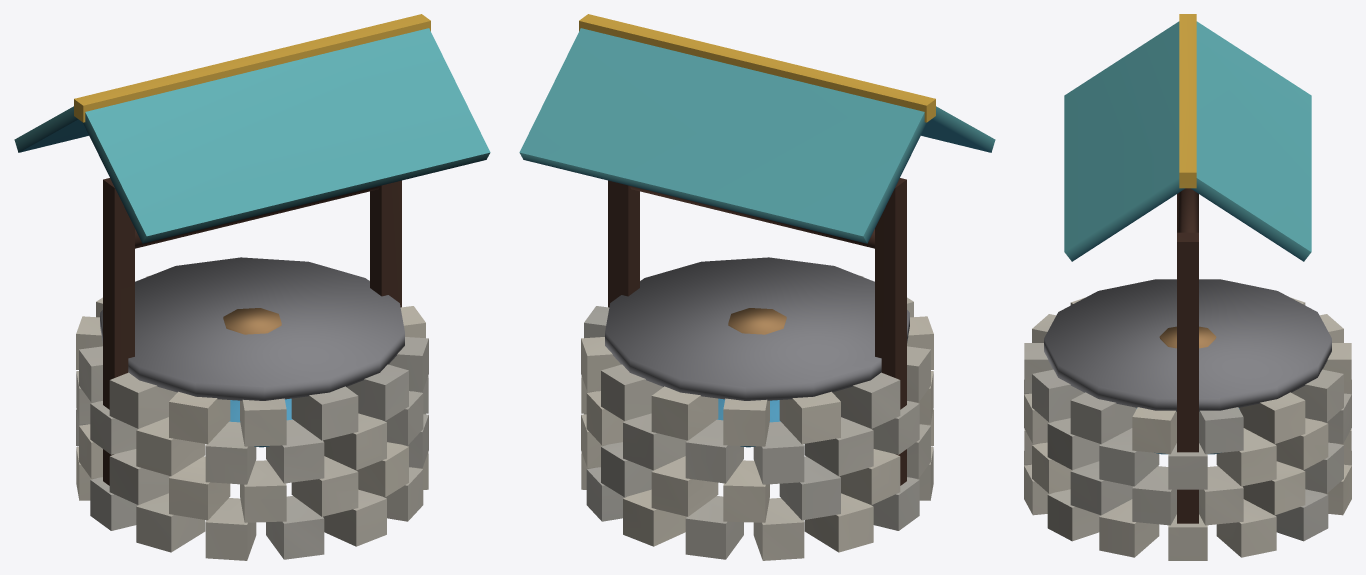
Rendered from well.glb.
The picture shows the model from 3 angles, left to right: view 1: azimuth 30°, elevation 25°; view 2: azimuth 150°, elevation 25°; view 3: azimuth 270°, elevation 25°; orthographic projection. The views are drawn at different scales.
Visible parts, largest first — view 1: Well; view 2: Well; view 3: Well.
Boxes of the visible parts, left/top/right/bottom form: Well: left=14, top=14, right=490, bottom=560; Well: left=519, top=14, right=995, bottom=560; Well: left=1024, top=14, right=1351, bottom=560.
Size of the model in its own units: 1.72 by 2.02 by 1.5.
